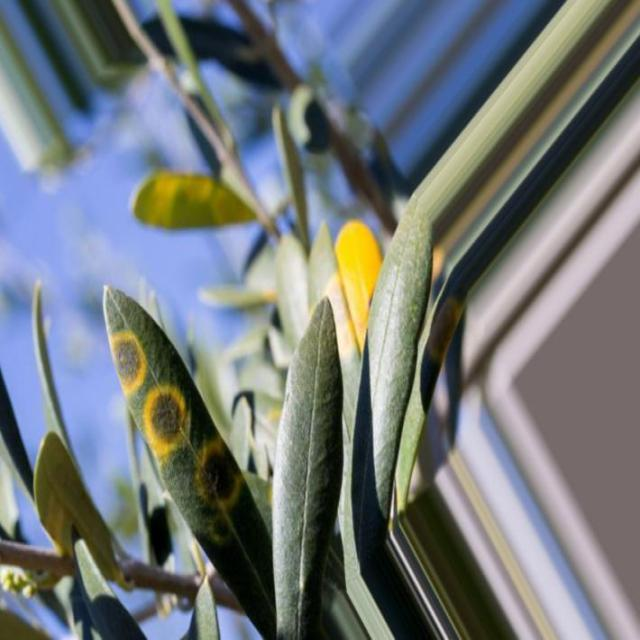Peacock Eye: (104, 285, 275, 639)
